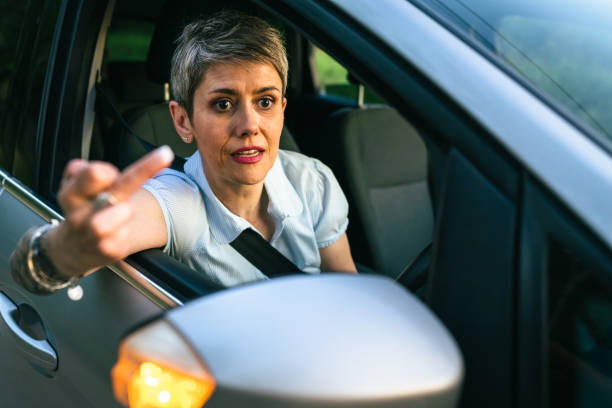insulting_gesture: (60, 144, 173, 267)
